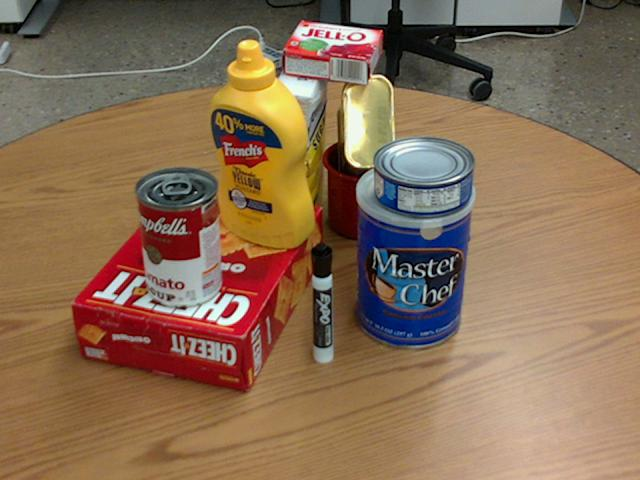cracker_box: (73, 187, 323, 392)
gelatin_box: (280, 22, 382, 84)
large_marker: (311, 243, 333, 363)
master_chef_can: (354, 158, 473, 348)
mug: (324, 136, 431, 238)
mustard_bottle: (207, 39, 313, 247)
potted_meat_can: (336, 76, 394, 191)
sugar_box: (271, 54, 328, 243)
tomato_soup_can: (134, 166, 222, 307)
tuna_fish_can: (372, 136, 474, 216)
